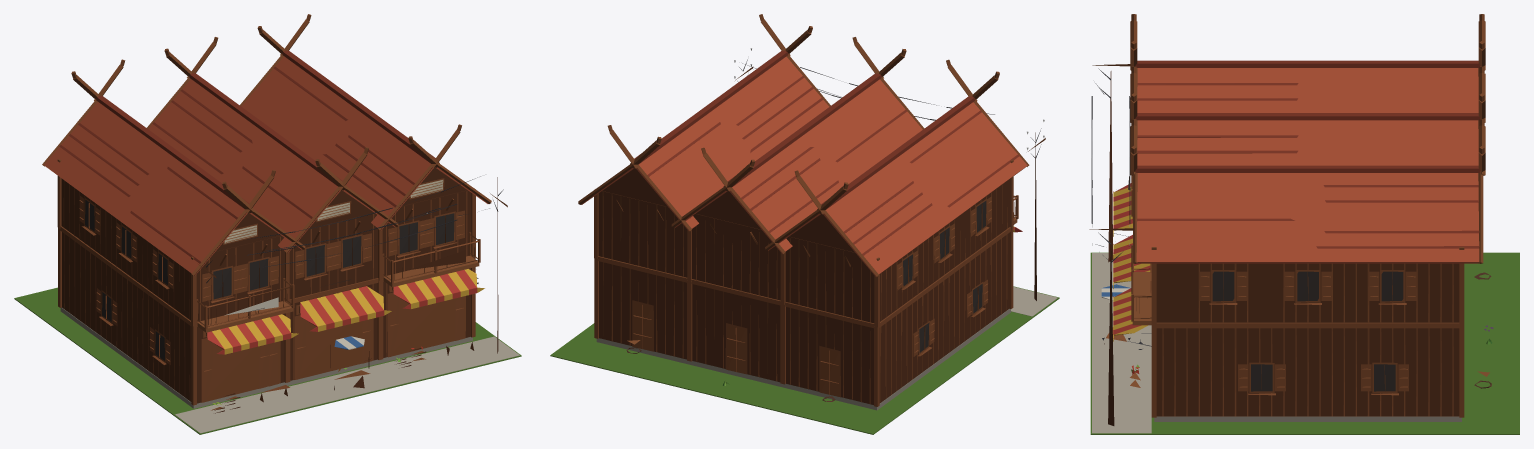
Rendered from shop_3.glb.
3 views of the same model, side by side, from view 1: azimuth 30°, elevation 25°; view 2: azimuth 150°, elevation 25°; view 3: azimuth 270°, elevation 25° (orthographic). The views are drawn at different scales.
Parts seen in each view (by area): view 1: body, windows; view 2: body, windows; view 3: body, windows.
Boxes of the visible parts, box(x1,y1,x2,y2) form: body: box(14, 14, 521, 434); windows: box(85, 200, 454, 360); body: box(550, 14, 1059, 434); windows: box(903, 201, 986, 352); body: box(1089, 14, 1519, 434); windows: box(1212, 271, 1403, 391).
Size of the model in its own units: 15.9 by 11 by 16.
